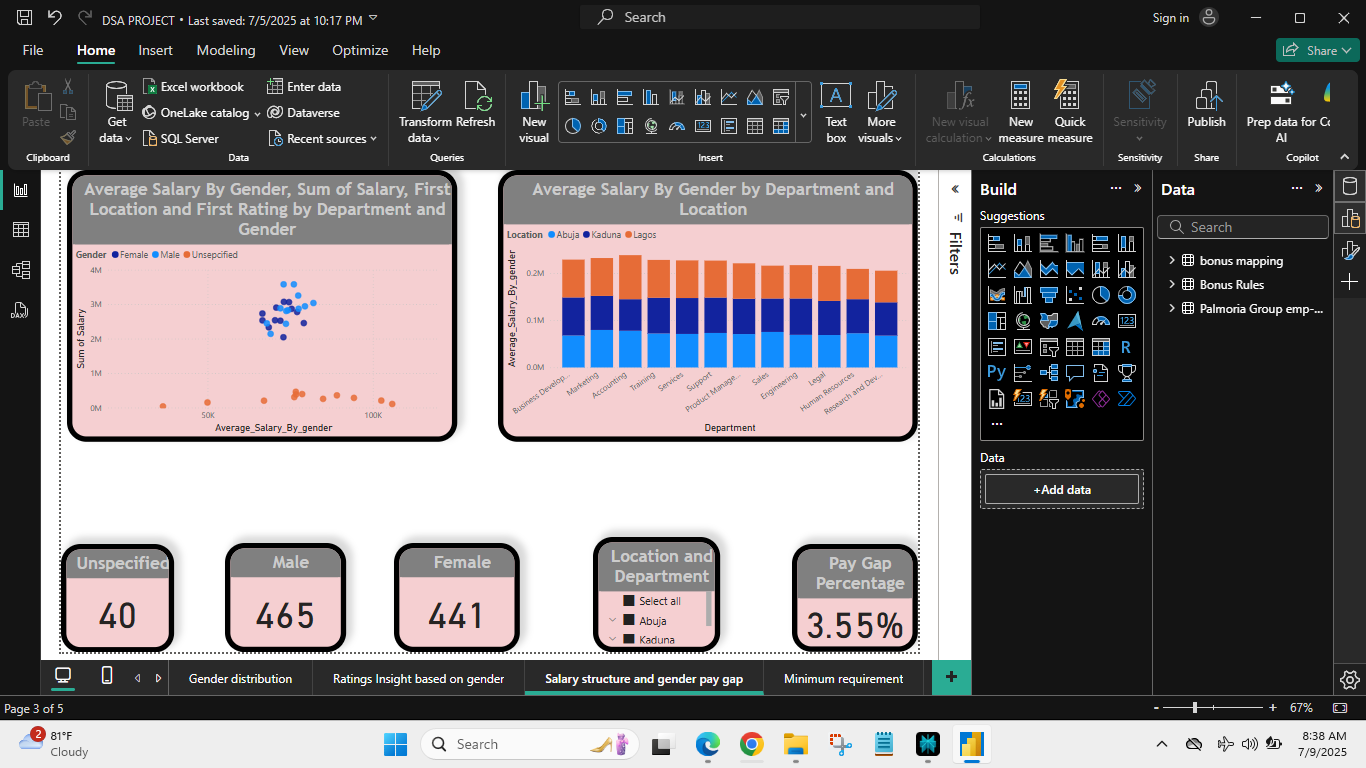

The page's visual inventory and layout, read from the dashboard file:
{"tool":"powerbi","page":{"name":"Salary structure and gender pay gap","canvas":[1280,720],"ordinal":2},"visuals":[{"type":"scatterChart","title":"Average Salary By Gender, Sum of Salary, First Location and First Rating by Department and Gender","fields":{"Series":["Palmoria Group emp-data.Gender_New"],"Category":["Palmoria Group emp-data.Department"],"Y":["Sum(Palmoria Group emp-data.Salary)"],"X":["Palmoria Group emp-data.Average_Salary_By_gender"]},"box":[9.4,0,469.7,406.3],"z":0},{"type":"columnChart","title":"Average Salary By Gender by Department and Location","fields":{"Category":["Palmoria Group emp-data.Department"],"Y":["Palmoria Group emp-data.Average_Salary_By_gender"],"Series":["Palmoria Group emp-data.Location"]},"box":[652.9,0,627.1,406.3],"z":1000},{"type":"slicer","title":"Location and Department","fields":{"Values":["Palmoria Group emp-data.Location","Palmoria Group emp-data.Department"]},"box":[556.6,549.6,190.2,171.4],"z":2000},{"type":"card","title":"Female","fields":{"Values":["Palmoria Group emp-data.Gender_Count"]},"box":[368.7,559,187.9,162.1],"z":3000},{"type":"card","title":"Male","fields":{"Values":["Palmoria Group emp-data.Gender_Count"]},"box":[169.1,559,180.8,162.1],"z":4000},{"type":"card","title":"Unspecified","fields":{"Values":["Palmoria Group emp-data.Gender_Count"]},"box":[0,559,169.1,162.1],"z":5000},{"type":"card","title":"Pay Gap Percentage","fields":{"Values":["Palmoria Group emp-data.PayGap (%)"]},"box":[746.9,549.6,187.9,162.1],"z":6000}]}

Visuals, with their boxes on the page's 1280x720 design canvas (x1, y1, x2, y2). These are canvas units, not pixel positions in the 1366x768 screenshot, which may show the page scaled, cropped or inside an application window:
"Average Salary By Gender, Sum of Salary, First Location and First Rating by Department and Gender" scatterChart: box(9, 0, 479, 406)
"Average Salary By Gender by Department and Location" columnChart: box(653, 0, 1280, 406)
"Location and Department" slicer: box(557, 550, 747, 721)
"Female" card: box(369, 559, 557, 721)
"Male" card: box(169, 559, 350, 721)
"Unspecified" card: box(0, 559, 169, 721)
"Pay Gap Percentage" card: box(747, 550, 935, 712)
